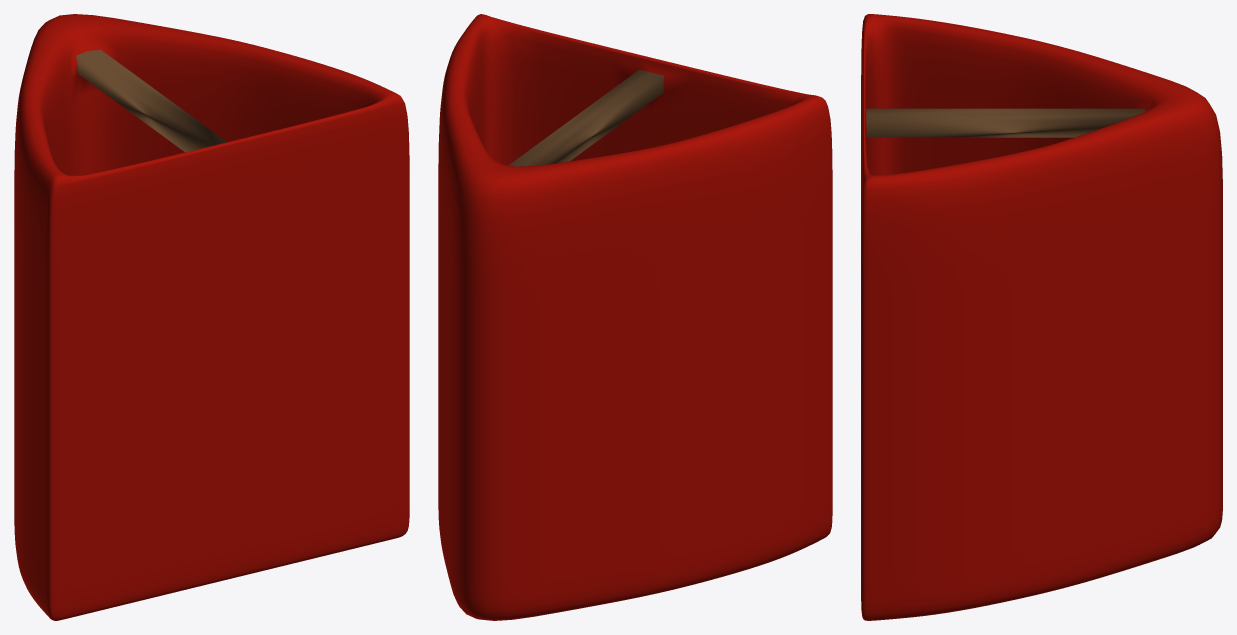
File: Tent.fbx
3 views of the same model, side by side, from view 1: azimuth 30°, elevation 25°; view 2: azimuth 150°, elevation 25°; view 3: azimuth 270°, elevation 25° (orthographic).
Parts seen in each view (by area): view 1: Tent; view 2: Tent; view 3: Tent.
Boxes of the visible parts, left/top/right/bottom form: Tent: left=14, top=14, right=409, bottom=620; Tent: left=438, top=14, right=832, bottom=620; Tent: left=861, top=14, right=1222, bottom=620.
Bounding box in the file's own units: 254 × 298 × 221.
